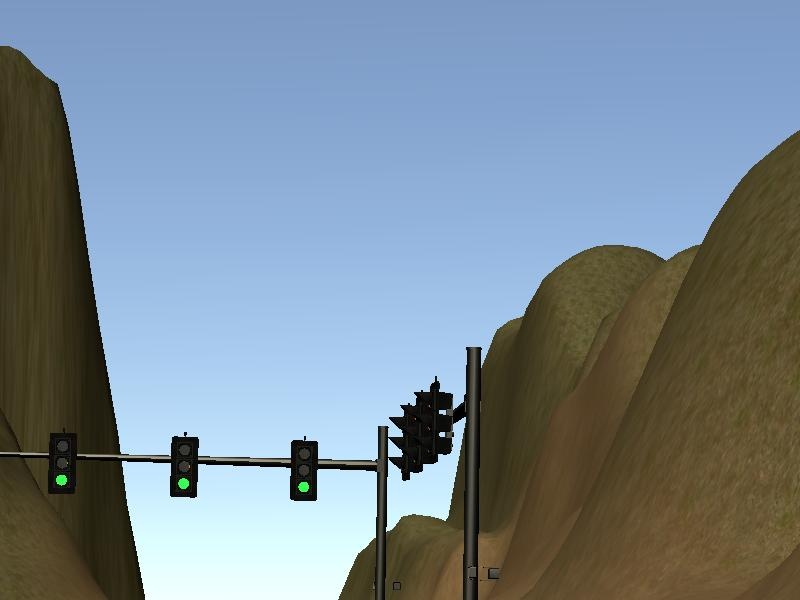green: (290, 439, 318, 502), (49, 430, 76, 493), (171, 436, 198, 498)
